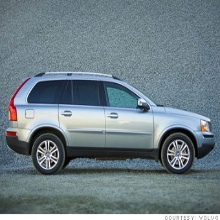no damage: (6, 72, 215, 176)
